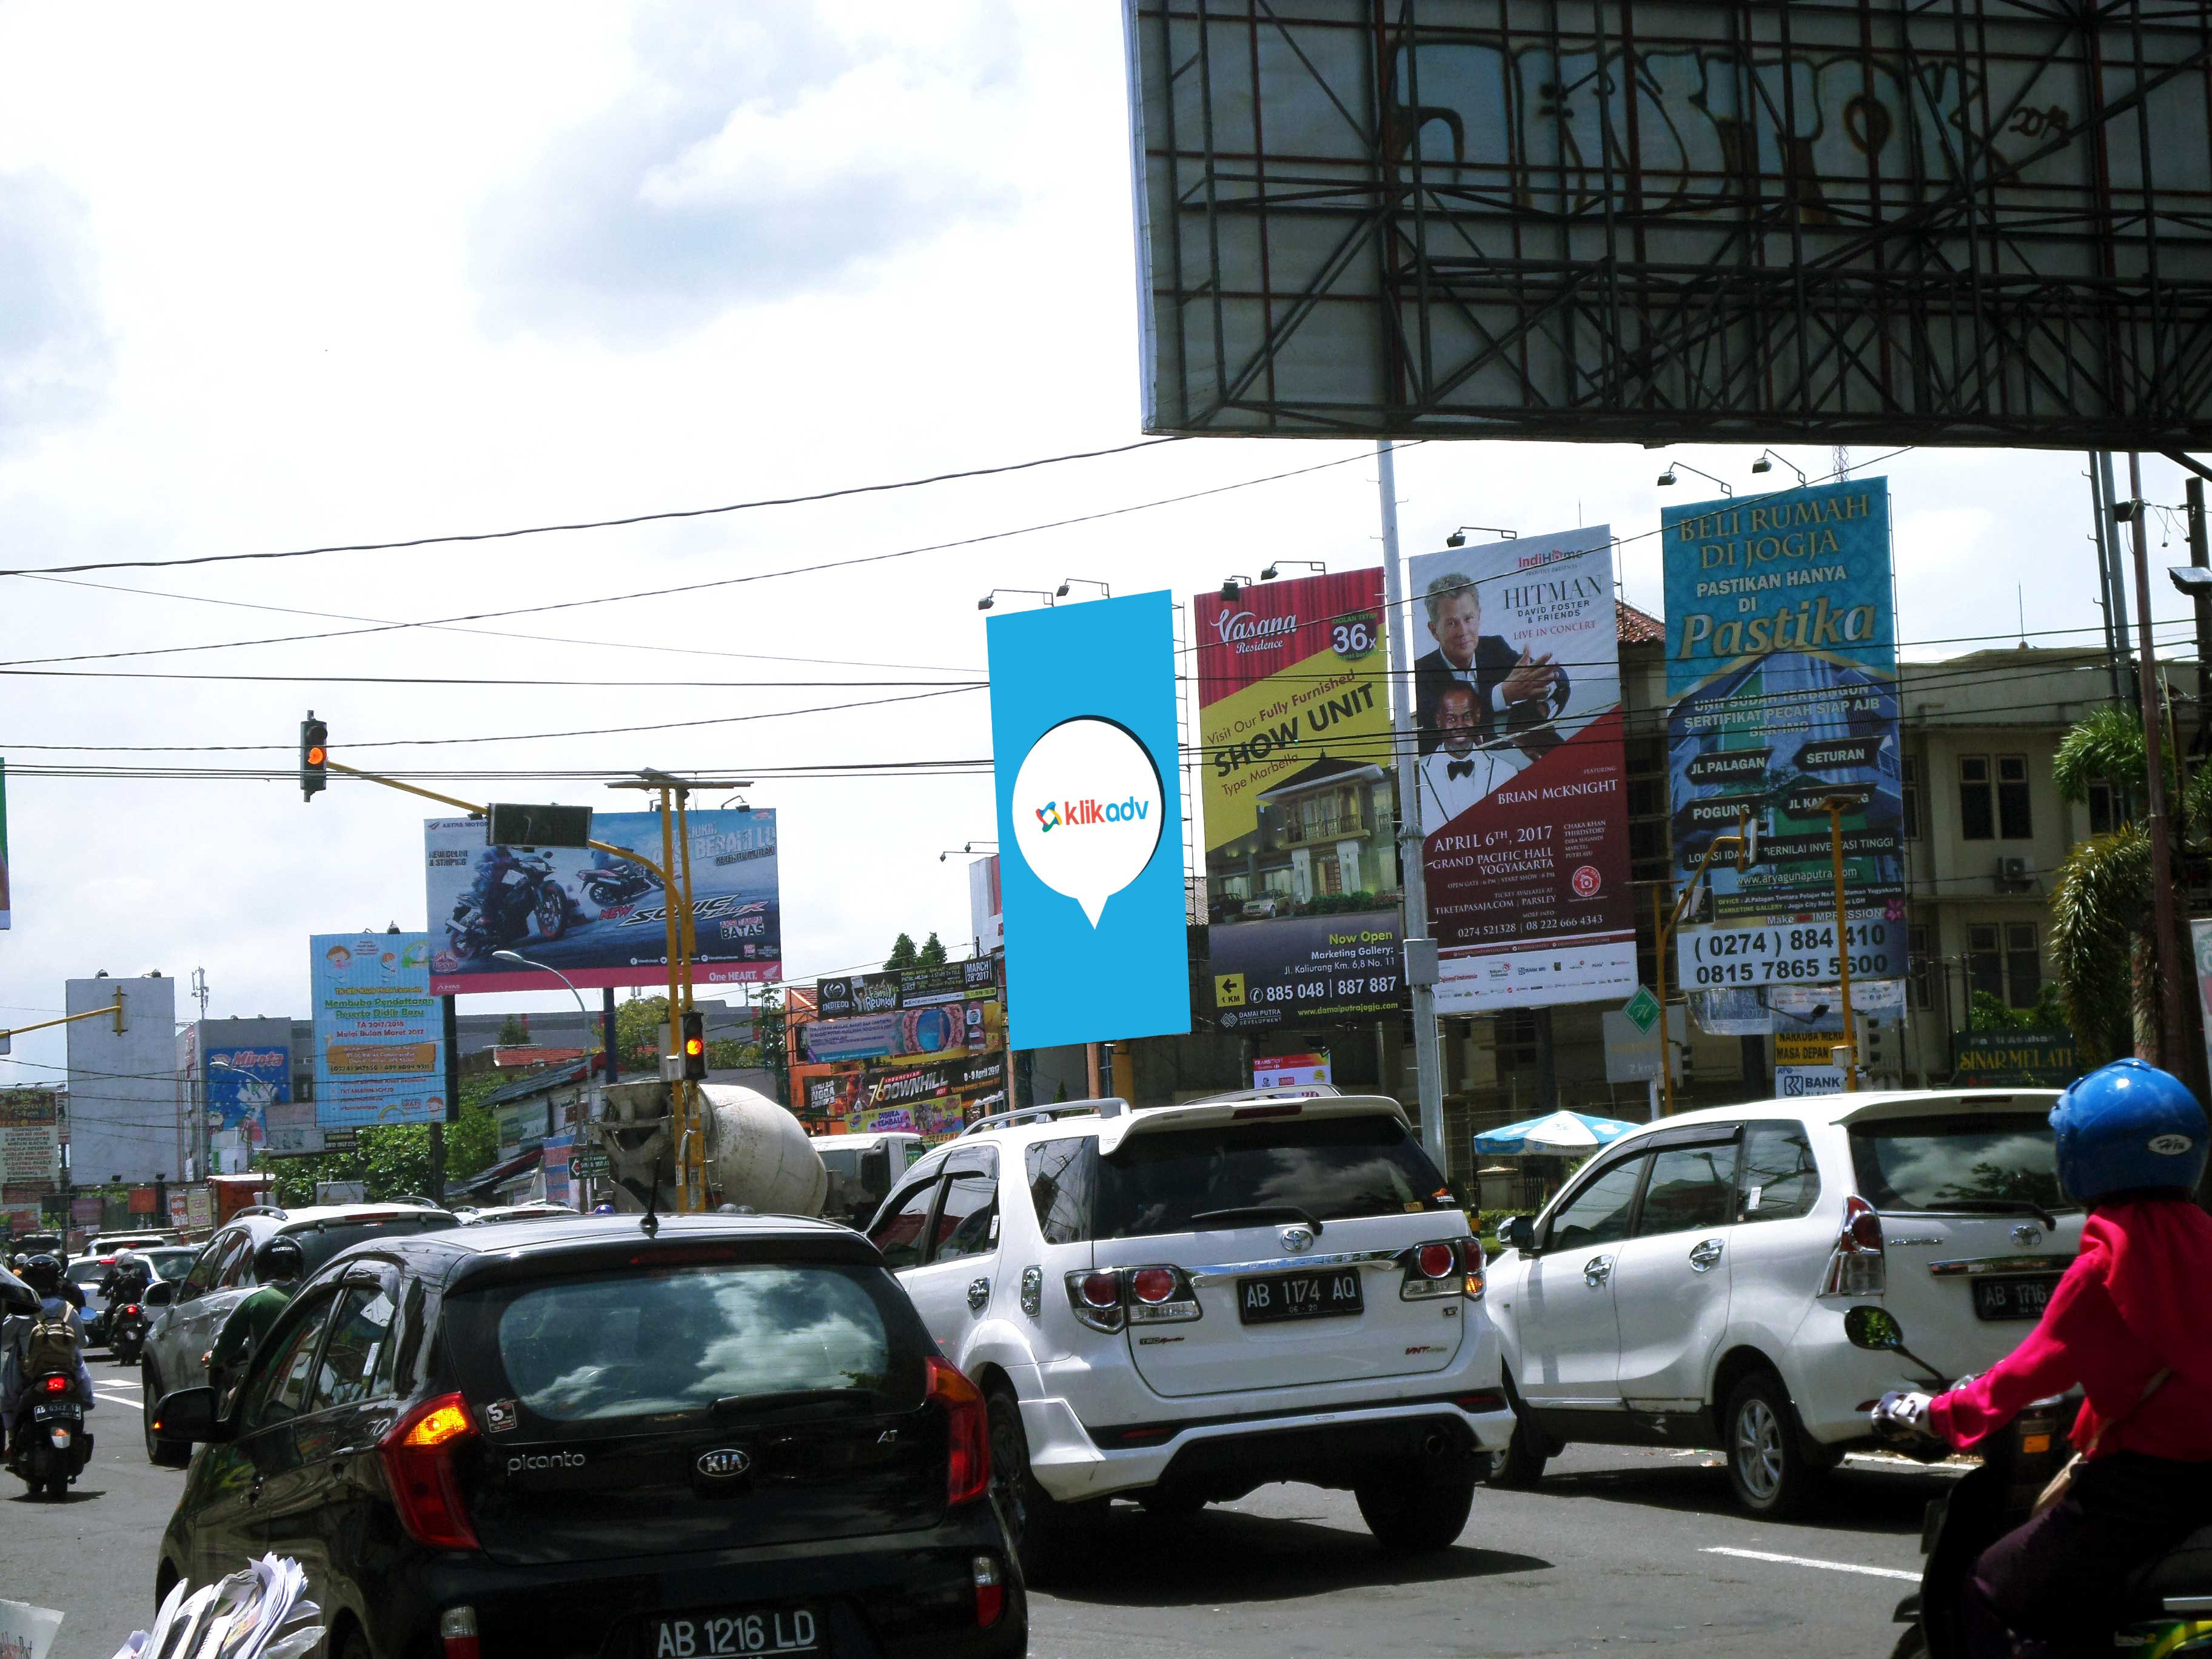plate: (1233, 1261, 1362, 1332), (663, 1592, 801, 1659)
